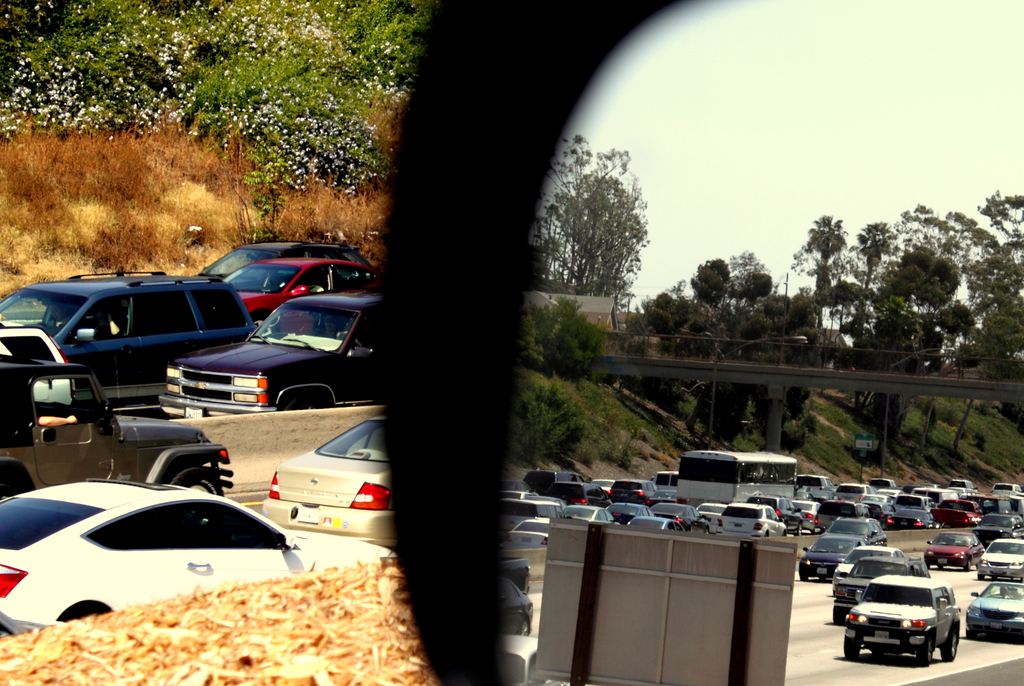cars: (0, 480, 325, 639), (507, 496, 1022, 575), (0, 269, 257, 416), (159, 287, 381, 415), (261, 417, 394, 547), (845, 574, 961, 662), (226, 257, 383, 321), (200, 240, 377, 279), (1, 322, 78, 406), (966, 579, 1023, 645), (978, 538, 1023, 579)
